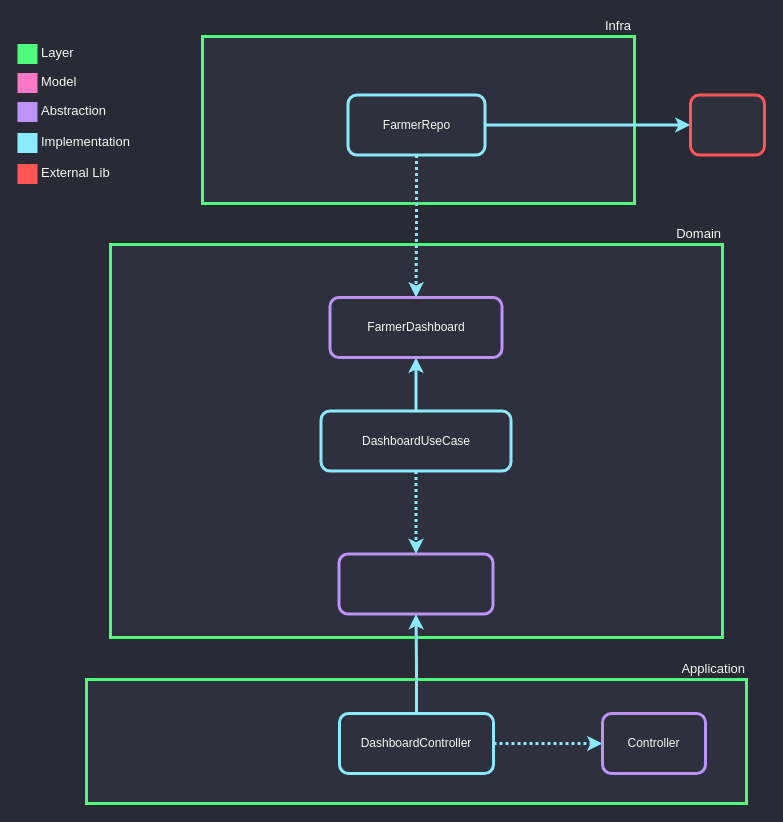
The diagram is 783 pixels wide and 822 high, and some of its shapes have lost their labels. Each missing label, with the centre of its shape:
"TypeORM" belongs at [727,124].
"UseCase" belongs at [415,583].
